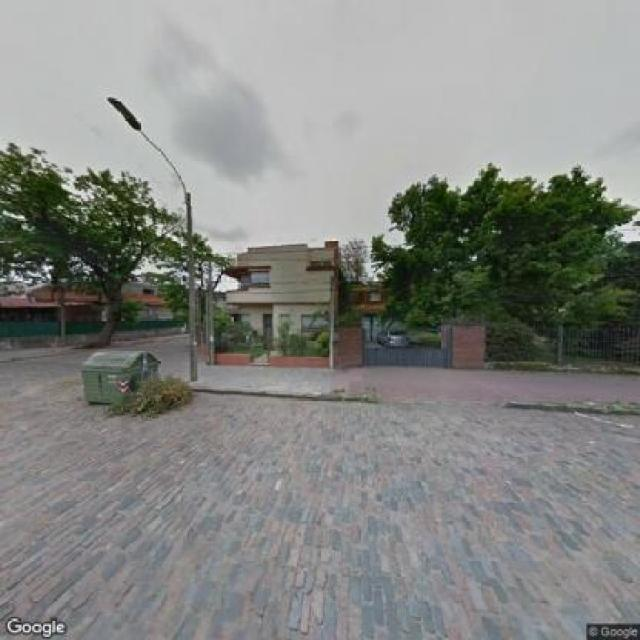garbage: (106, 380, 198, 414)
